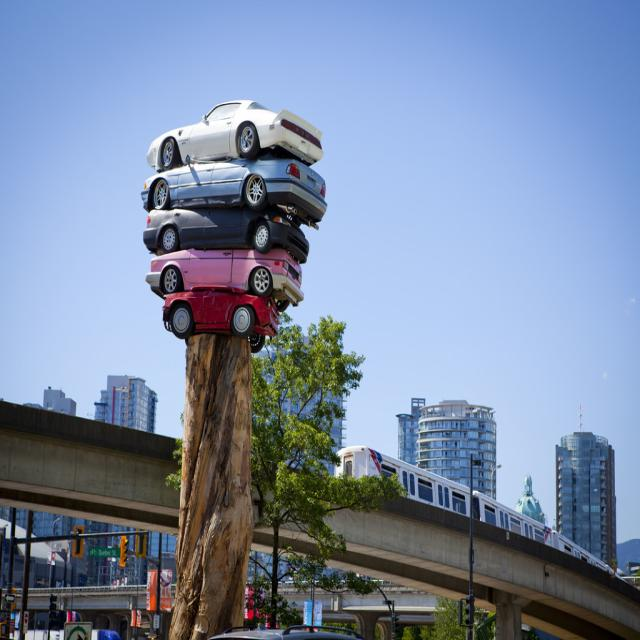Passenger Car: (139, 153, 326, 223), (144, 101, 325, 161), (137, 204, 313, 260), (146, 244, 302, 306), (161, 287, 275, 343)
